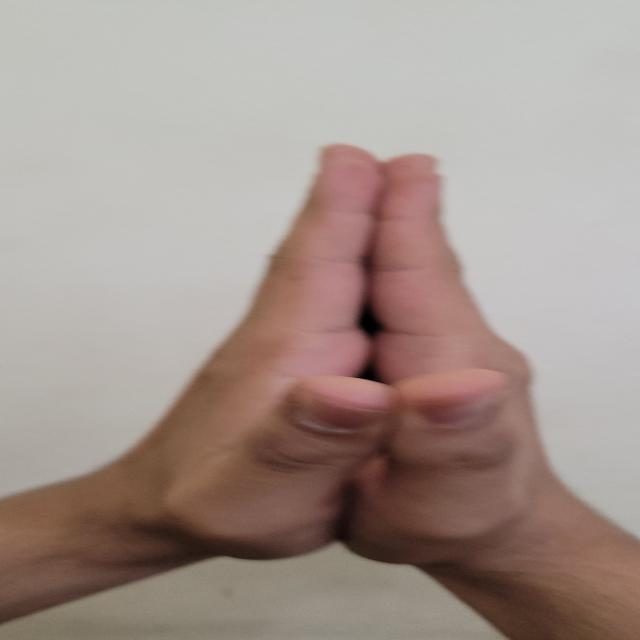Thank You: (55, 138, 603, 640)
